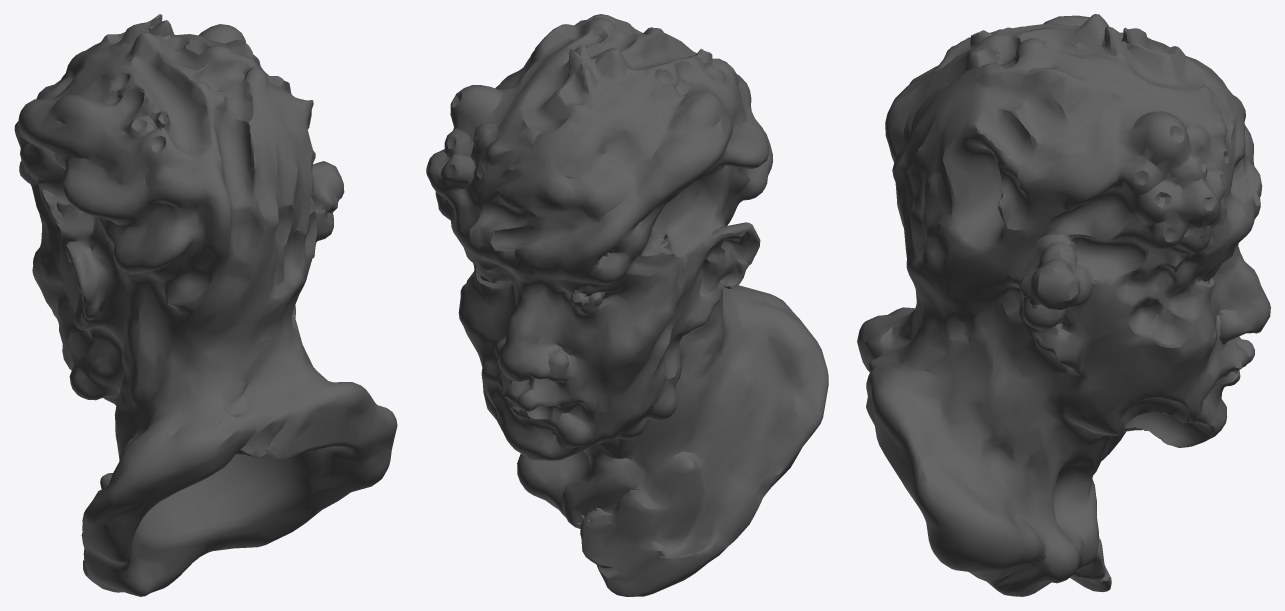
File: 15_head_2.glb
The picture shows the model from 3 angles, left to right: view 1: azimuth 30°, elevation 25°; view 2: azimuth 150°, elevation 25°; view 3: azimuth 270°, elevation 25°; orthographic projection. The views are drawn at different scales.
Visible parts, largest first — view 1: Sphere; view 2: Sphere; view 3: Sphere.
Part boxes in pixels (left/top/right/bottom): Sphere: left=14, top=14, right=397, bottom=596; Sphere: left=426, top=14, right=828, bottom=596; Sphere: left=857, top=14, right=1270, bottom=596.
Bounding box in the file's own units: 7.1 × 11.72 × 7.51.
Materials: 1 (1 with a texture image).
